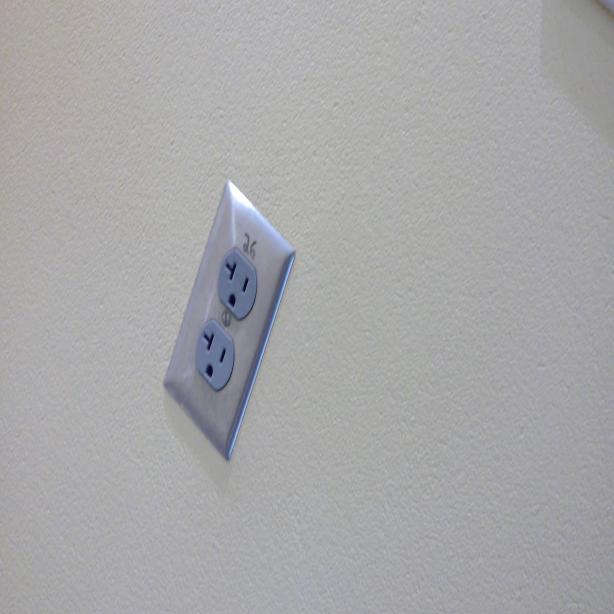typeb: (196, 321, 234, 390), (217, 247, 256, 314)
